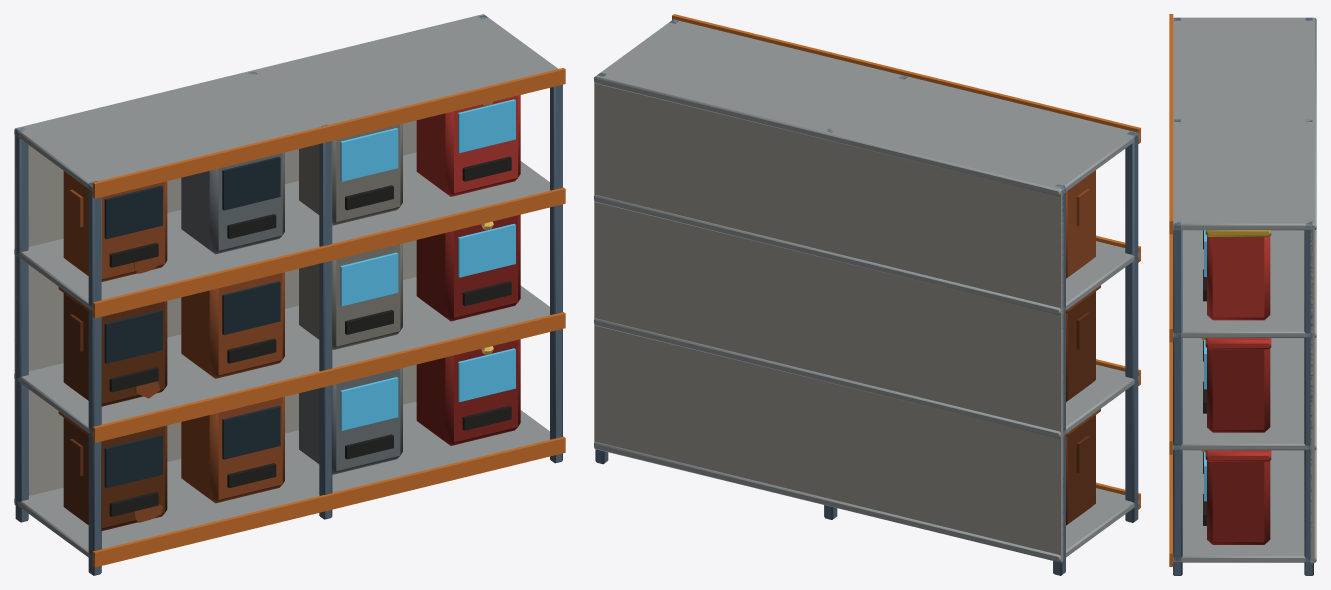
The model's file is 197_rayon_boitiers.fbx.
The picture shows the model from 3 angles, left to right: view 1: azimuth 30°, elevation 25°; view 2: azimuth 150°, elevation 25°; view 3: azimuth 270°, elevation 25°; orthographic projection. The views are drawn at different scales.
Visible parts, largest first — view 1: Rayon, Articles; view 2: Rayon, Articles; view 3: Rayon, Articles.
Part boxes in pixels (<box>): Rayon: <box>14,14,565,575</box>; Articles: <box>58,95,520,530</box>; Rayon: <box>594,14,1140,575</box>; Articles: <box>1066,170,1100,525</box>; Rayon: <box>1169,14,1316,575</box>; Articles: <box>1200,230,1271,544</box>.
Bounding box in the file's own units: 2.8 × 2.24 × 0.84.
Materials: 1 (1 with a texture image).
